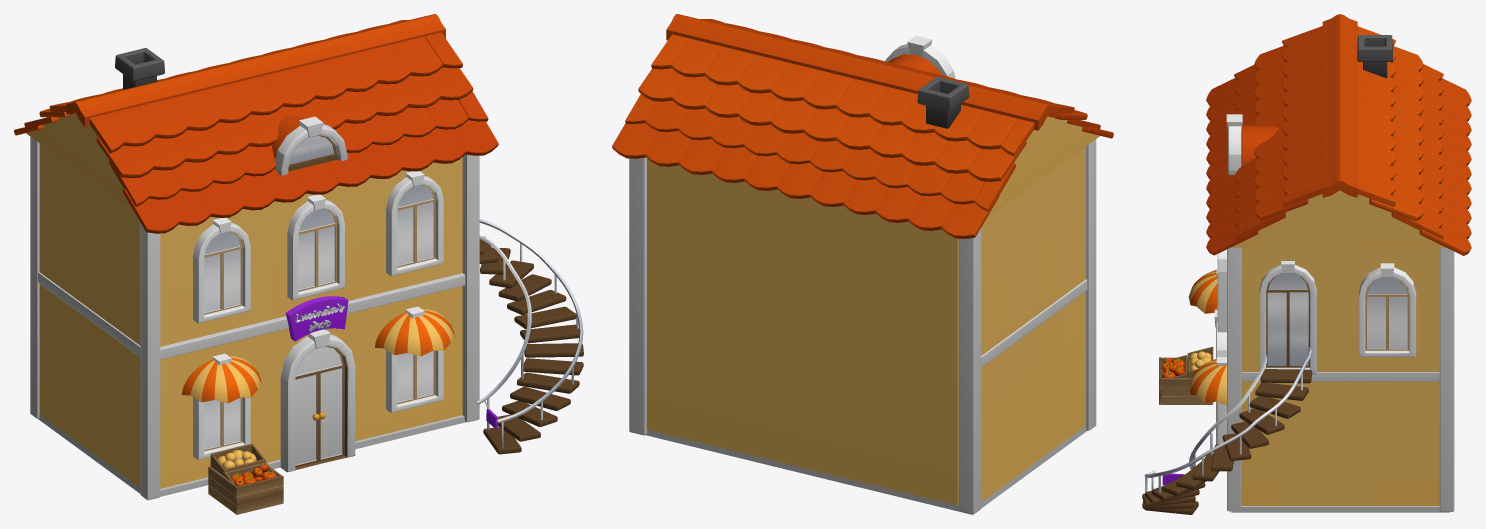
File: shop9.fbx
3 renders of one model, left to right at view 1: azimuth 30°, elevation 25°; view 2: azimuth 150°, elevation 25°; view 3: azimuth 270°, elevation 25°, orthographic. The views are drawn at different scales.
Parts seen in each view (by area): view 1: shop7:shop; view 2: shop7:shop; view 3: shop7:shop.
Boxes of the visible parts, x1=… form: shop7:shop: x1=14, y1=14, x2=583, y2=514; shop7:shop: x1=612, y1=14, x2=1113, y2=514; shop7:shop: x1=1142, y1=14, x2=1471, y2=514.
Size of the model in its own units: 624 by 509 by 434.
Materials: 1 (1 with a texture image).
